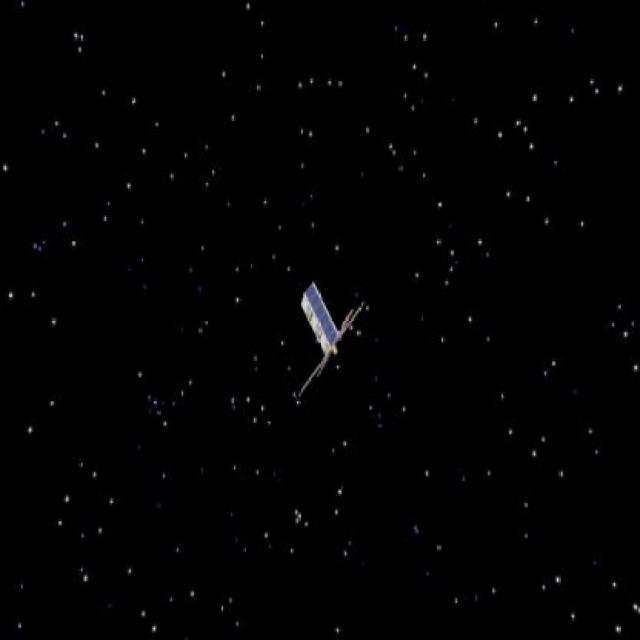satellite: (279, 271, 388, 410)
